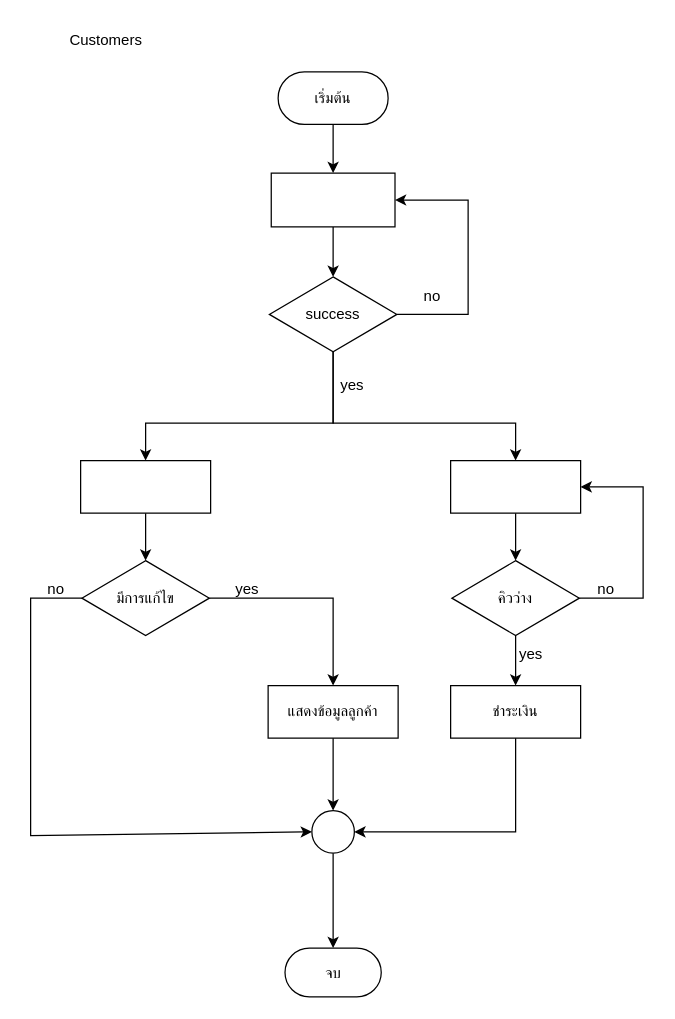
This 675x1019 diagram has some shape labels left out. Here are the shapes that lost their labels. From the top down, the box of each, then its label:
(270, 172, 395, 227): Line Login
(79, 459, 211, 513): จัดการข้อมูลลูกค้า
(449, 459, 581, 513): เลือกจองบริการหรือคอร์ส
